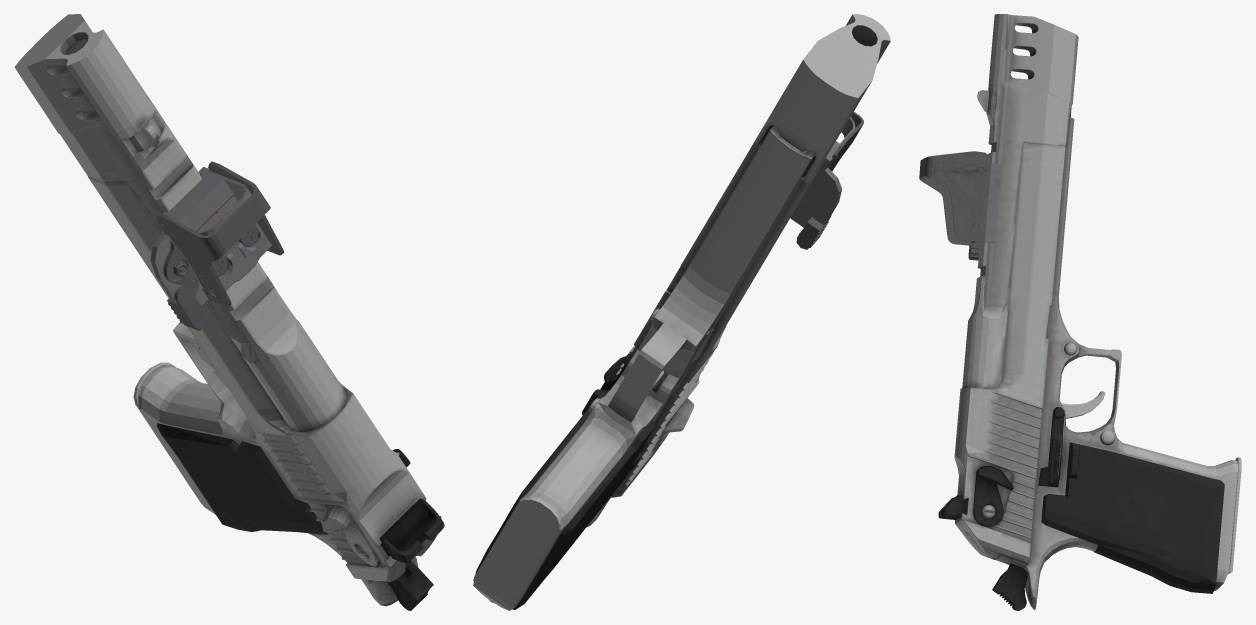
Rendered from swat-pistol.glb.
The picture shows the model from 3 angles, left to right: view 1: azimuth 30°, elevation 25°; view 2: azimuth 150°, elevation 25°; view 3: azimuth 270°, elevation 25°; orthographic projection. The views are drawn at different scales.
Visible parts, largest first — view 1: geometry_4, geometry_2, geometry_3; view 2: geometry_4, geometry_3, geometry_0, geometry_2; view 3: geometry_4, geometry_2, geometry_3, geometry_1, geometry_0.
Part boxes in pixels (bbox=[...]): geometry_4: bbox=[60, 96, 444, 610]; geometry_2: bbox=[150, 161, 283, 330]; geometry_3: bbox=[14, 14, 147, 133]; geometry_4: bbox=[473, 112, 838, 610]; geometry_3: bbox=[772, 14, 890, 150]; geometry_0: bbox=[473, 497, 560, 607]; geometry_2: bbox=[790, 112, 863, 249]; geometry_4: bbox=[938, 82, 1237, 610]; geometry_2: bbox=[919, 151, 1001, 260]; geometry_3: bbox=[988, 14, 1078, 104]; geometry_1: bbox=[1061, 391, 1105, 418]; geometry_0: bbox=[1228, 457, 1241, 574].
Bounding box in the file's own units: 0.2101 × 0.3471 × 0.2089.
5 materials, 5 textured.
